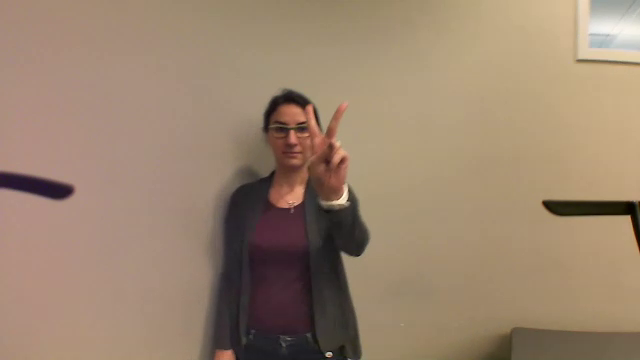peace: (296, 97, 358, 199)
